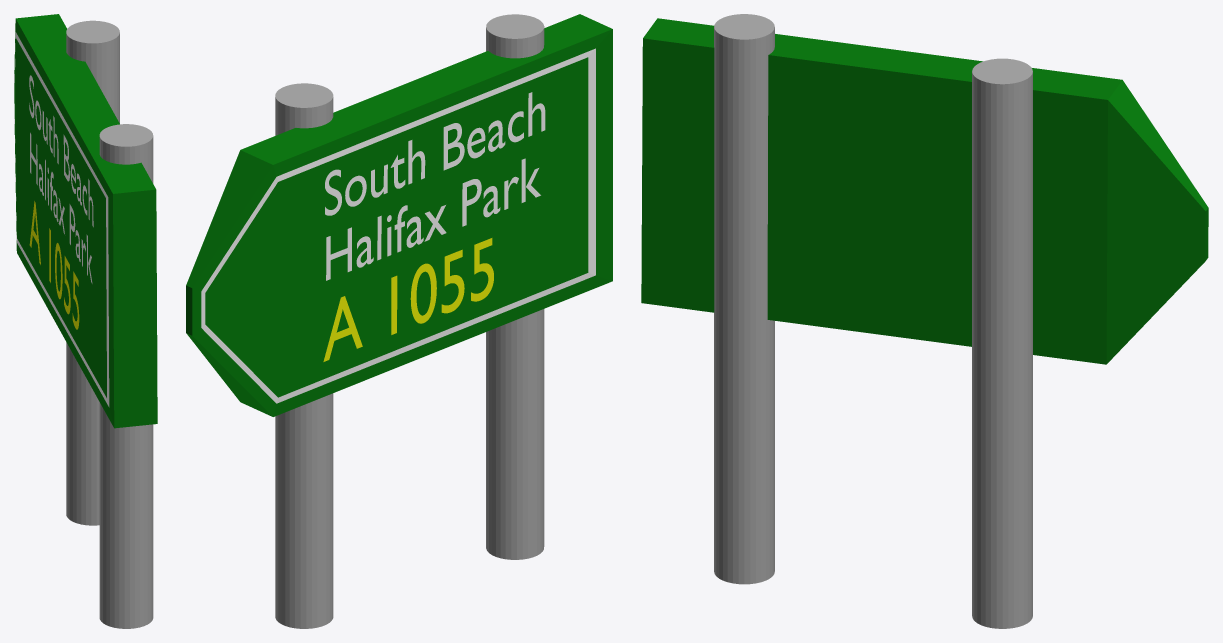
File: ChevronLeftHalifaxParkRoundabout2.fbx
3 views of the same model, side by side, from view 1: azimuth 30°, elevation 25°; view 2: azimuth 150°, elevation 25°; view 3: azimuth 270°, elevation 25° (orthographic). The views are drawn at different scales.
Parts seen in each view (by area): view 1: Cube.030, Cylinder.002, Cylinder.001, Text.007, Text.008; view 2: Cube.030, Cylinder.002, Cylinder.001, Text.007, Text.008; view 3: Cube.030, Cylinder.001, Cylinder.002.
Boxes of the visible parts, x1=… form: Cube.030: x1=14, y1=14, x2=157, y2=428; Cylinder.002: x1=99, y1=124, x2=153, y2=628; Cylinder.001: x1=66, y1=20, x2=119, y2=525; Text.007: x1=29, y1=75, x2=93, y2=283; Text.008: x1=29, y1=201, x2=79, y2=329; Cube.030: x1=186, y1=14, x2=612, y2=416; Cylinder.002: x1=486, y1=14, x2=544, y2=559; Cylinder.001: x1=275, y1=83, x2=333, y2=628; Text.007: x1=325, y1=92, x2=545, y2=280; Text.008: x1=323, y1=238, x2=493, y2=361; Cube.030: x1=641, y1=18, x2=1208, y2=364; Cylinder.001: x1=972, y1=58, x2=1032, y2=628; Cylinder.002: x1=714, y1=14, x2=774, y2=584.
Size of the model in its own units: 127 by 374 by 353.
